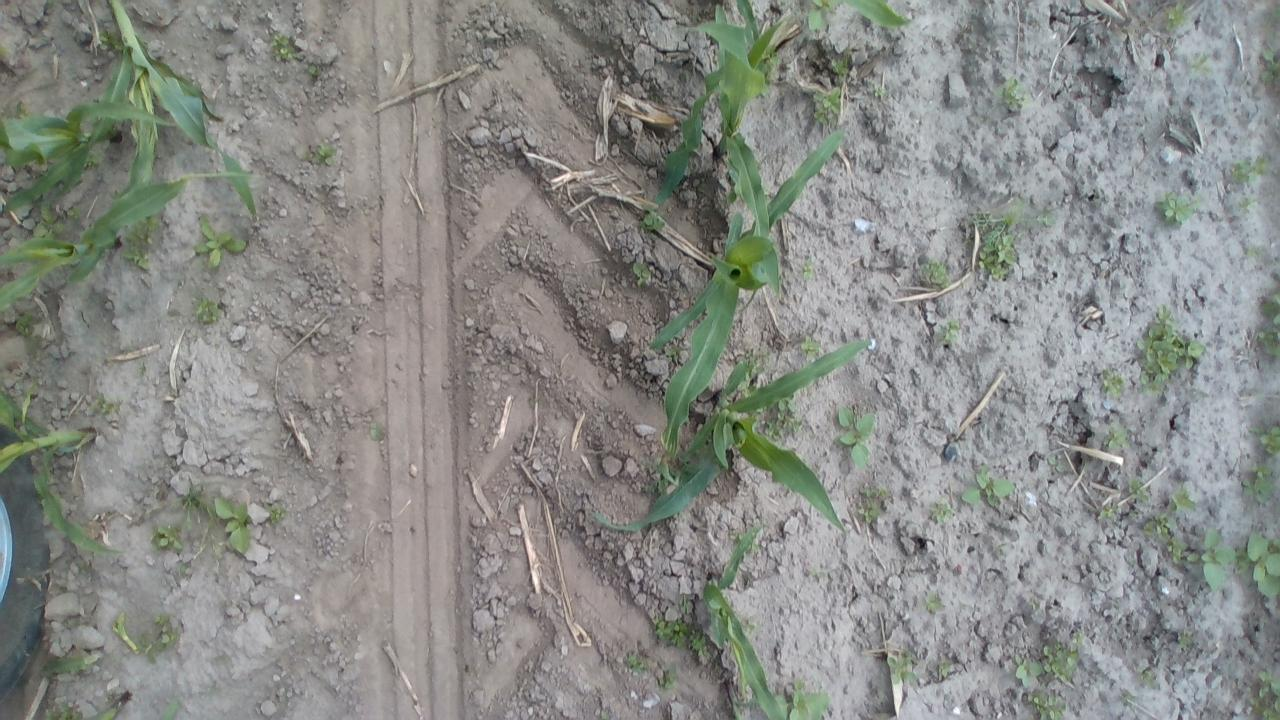Maize: (653, 120, 850, 448), (0, 3, 258, 224), (592, 338, 868, 534), (1, 173, 258, 310), (657, 0, 791, 241), (0, 99, 171, 219), (0, 391, 120, 557), (704, 525, 798, 719), (802, 0, 908, 31)
Weeds: (1139, 305, 1204, 392), (966, 211, 1021, 278), (194, 214, 248, 267), (209, 495, 252, 552), (1246, 532, 1280, 603), (1039, 634, 1087, 682), (1253, 289, 1280, 370), (1202, 527, 1235, 589), (962, 466, 1016, 502), (774, 686, 828, 720), (839, 408, 870, 465), (124, 217, 154, 275), (1246, 670, 1280, 720), (1222, 154, 1268, 188), (764, 398, 799, 439), (1255, 43, 1280, 93), (1154, 190, 1190, 223), (886, 651, 917, 688), (1028, 691, 1066, 720), (1013, 651, 1042, 689), (1242, 463, 1274, 497), (809, 86, 842, 117), (998, 78, 1026, 114), (152, 611, 179, 648), (918, 260, 948, 292), (272, 30, 300, 63), (152, 526, 186, 552), (98, 25, 126, 56), (654, 620, 688, 644), (1170, 483, 1197, 512), (84, 397, 124, 414), (862, 477, 894, 498), (1143, 514, 1174, 535), (14, 317, 41, 341), (312, 144, 338, 168), (183, 492, 206, 519), (1127, 476, 1149, 504), (1261, 424, 1280, 456), (1100, 369, 1123, 394), (198, 298, 220, 323), (1168, 537, 1188, 564), (1104, 426, 1127, 449), (638, 210, 662, 232), (928, 501, 953, 522), (942, 318, 965, 340), (1187, 48, 1209, 71), (1166, 3, 1186, 28), (1046, 454, 1067, 477), (800, 338, 821, 361), (856, 504, 880, 524), (829, 57, 852, 77), (935, 654, 954, 678), (658, 666, 678, 688), (690, 627, 704, 658), (800, 260, 819, 282), (632, 260, 651, 282), (667, 342, 686, 363), (1034, 210, 1056, 228), (270, 505, 288, 527), (926, 594, 945, 614), (626, 649, 644, 670), (870, 81, 890, 99), (1102, 500, 1120, 517), (84, 150, 100, 168), (1140, 668, 1154, 688), (59, 204, 77, 218), (309, 63, 324, 78), (1176, 630, 1190, 646)
